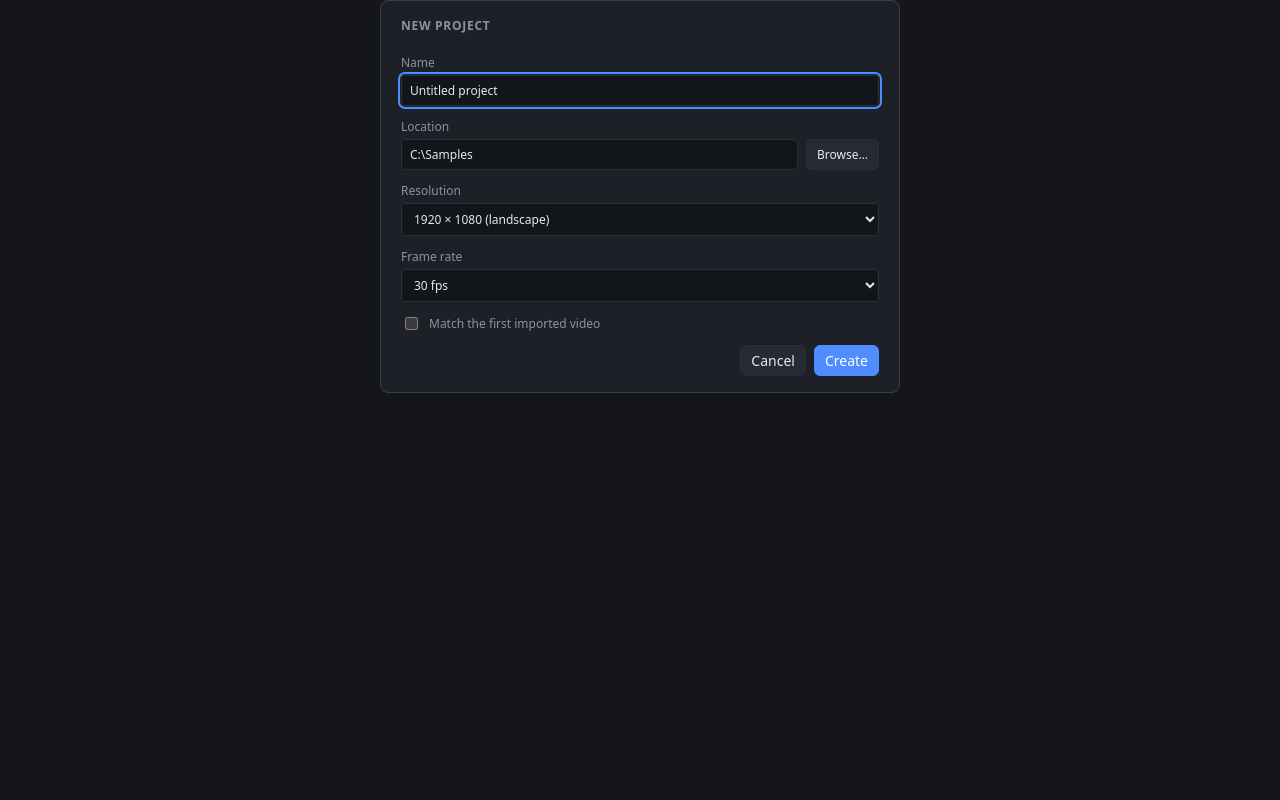
Test: creation owns its pending interaction › locks during the native picker and surfaces picker rejection before allowing retry
Click the button "Browse…": (842, 154) [806,139,879,170]
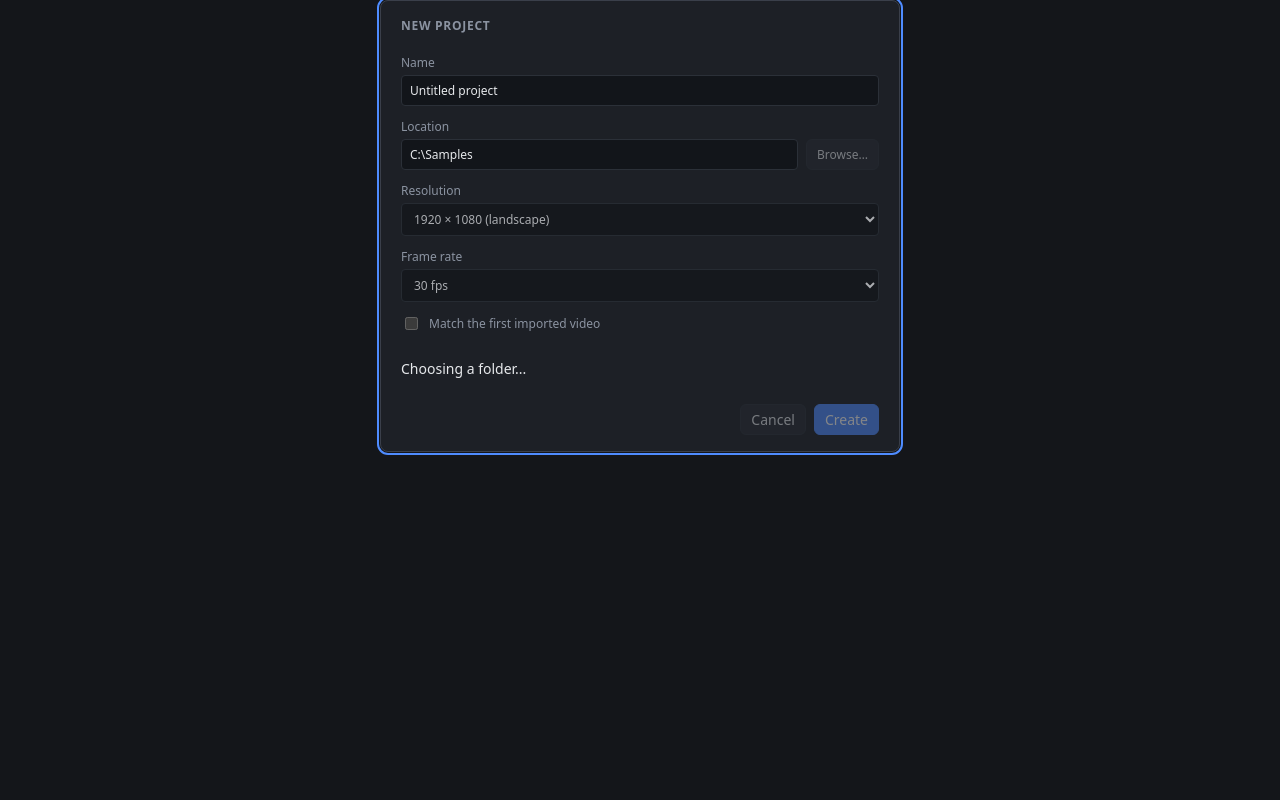
Check: the button "Create" is disabled, box [814,404,879,435]
Press Escape
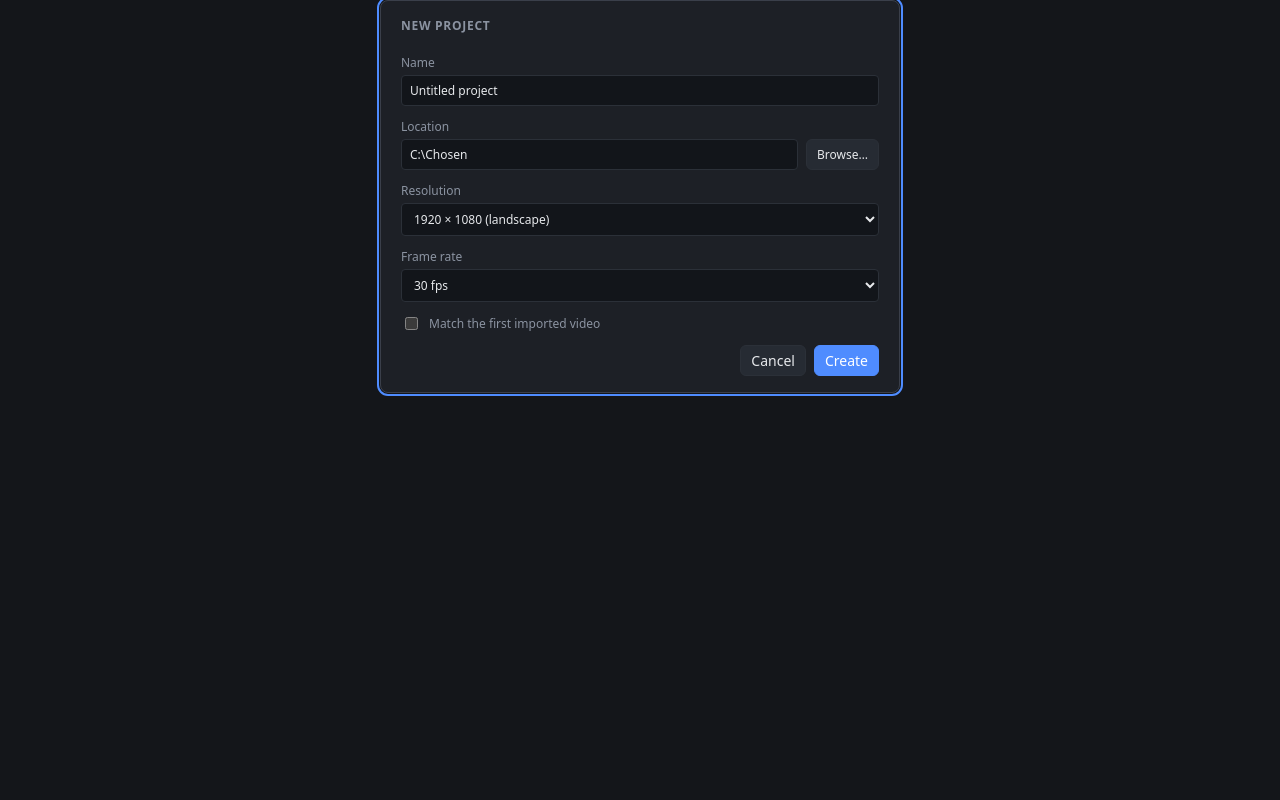
Check: the field labelled "Location" holds "C:\\Chosen", box [401,139,798,170]
Click the button "Browse…": (842, 154) [806,139,879,170]
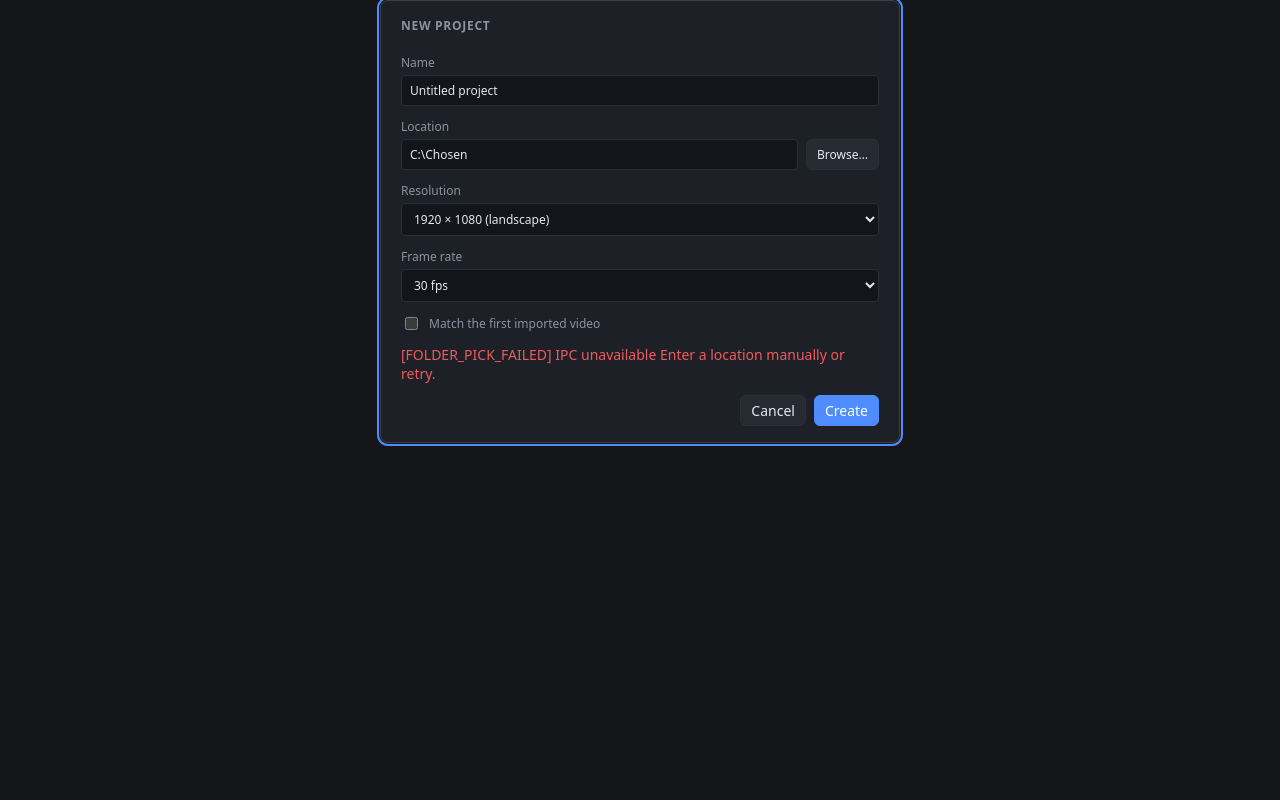
Check: the button "Cancel" is enabled, box [740,395,806,426]
Check: the message shows "[FOLDER_PICK_FAILED]", box [401,345,845,383]
